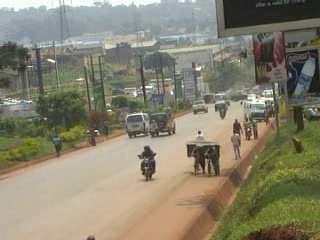Car: (147, 109, 178, 137), (212, 96, 232, 113), (228, 90, 248, 102), (246, 92, 258, 104)
Motorcycle: (132, 145, 157, 182), (216, 104, 227, 120)
